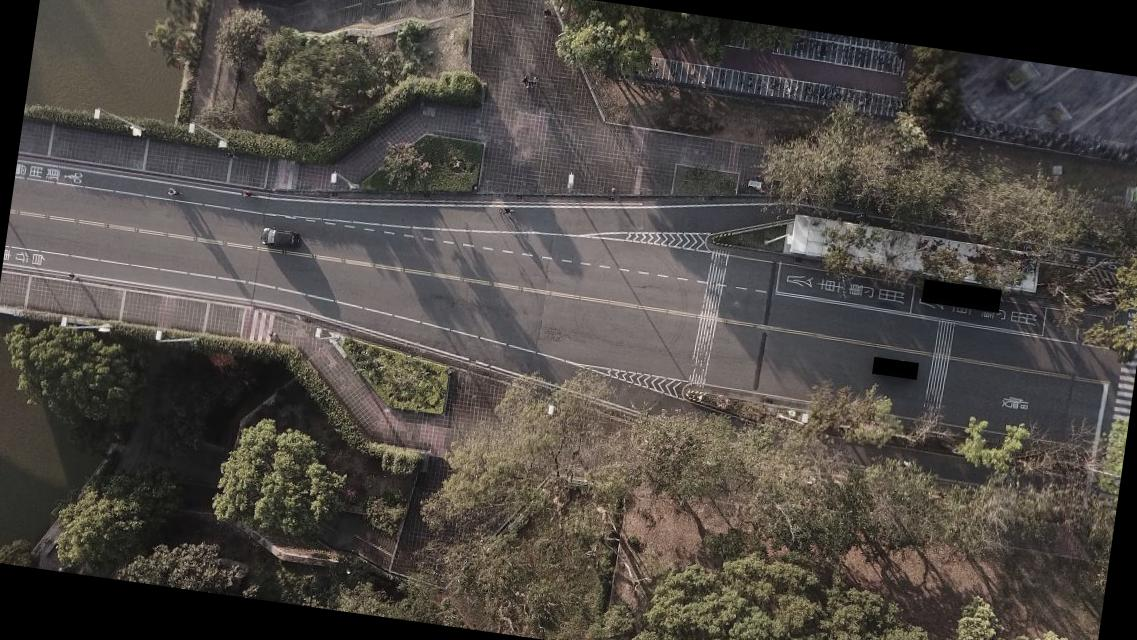vehicle: (258, 226, 300, 250)
